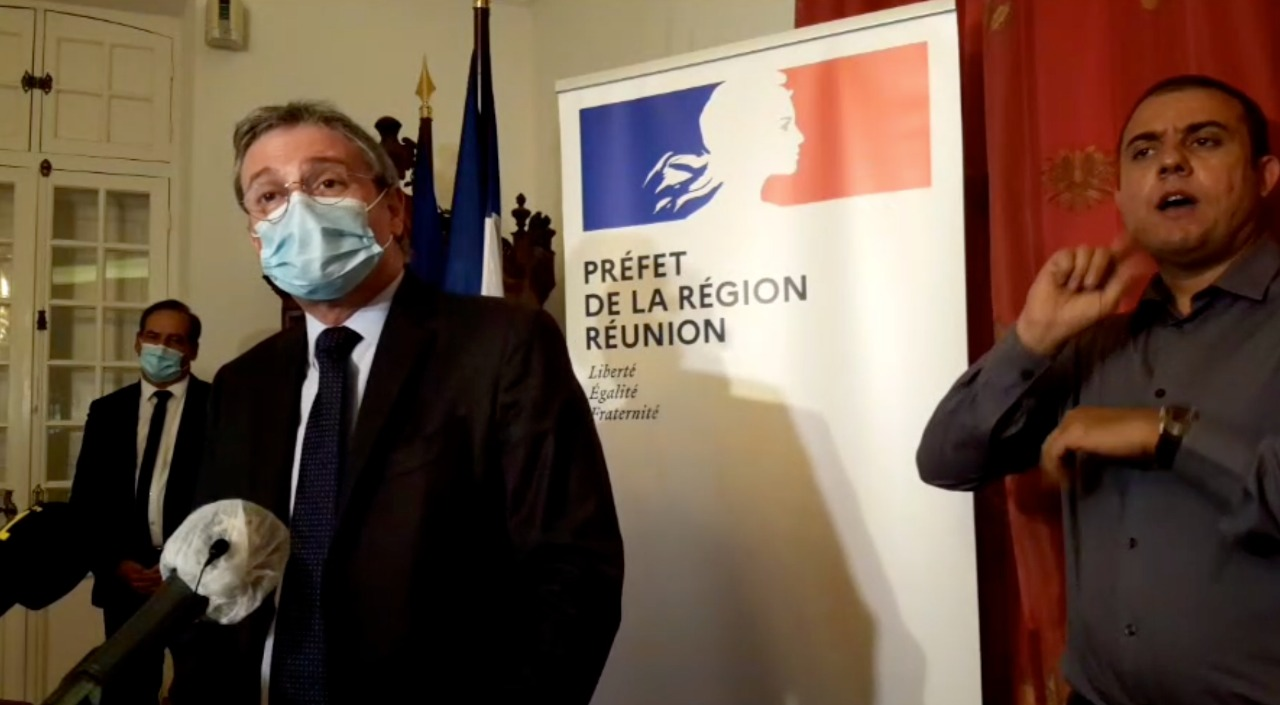with_mask: (237, 154, 395, 301), (134, 310, 199, 386)
without_mask: (1118, 103, 1272, 251)
